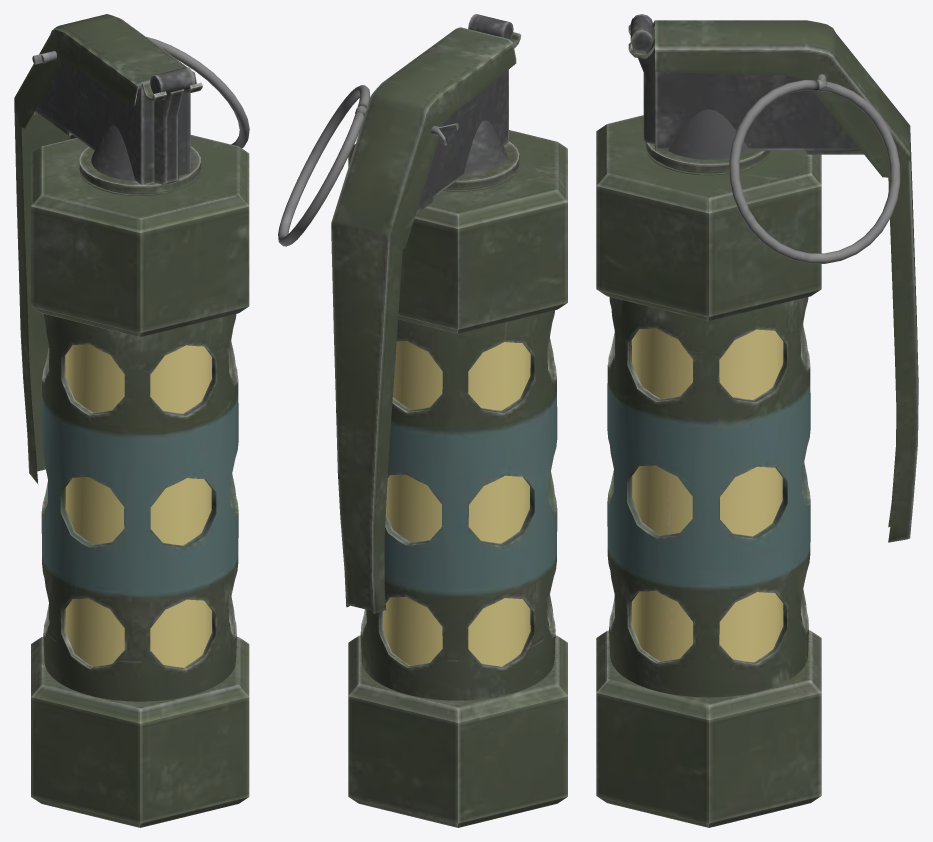
File: Flashbang.glb
The picture shows the model from 3 angles, left to right: view 1: azimuth 30°, elevation 25°; view 2: azimuth 150°, elevation 25°; view 3: azimuth 270°, elevation 25°; orthographic projection. The views are drawn at different scales.
Parts seen in each view (by area): view 1: Flashbang; view 2: Flashbang; view 3: Flashbang.
Boxes of the visible parts, x1,y1,x2,y2 form: Flashbang: (14, 14, 249, 827); Flashbang: (278, 14, 567, 827); Flashbang: (596, 14, 918, 827).
Bounding box in the file's own units: 0.0418 × 0.1216 × 0.047.
1 material, 1 textured.
